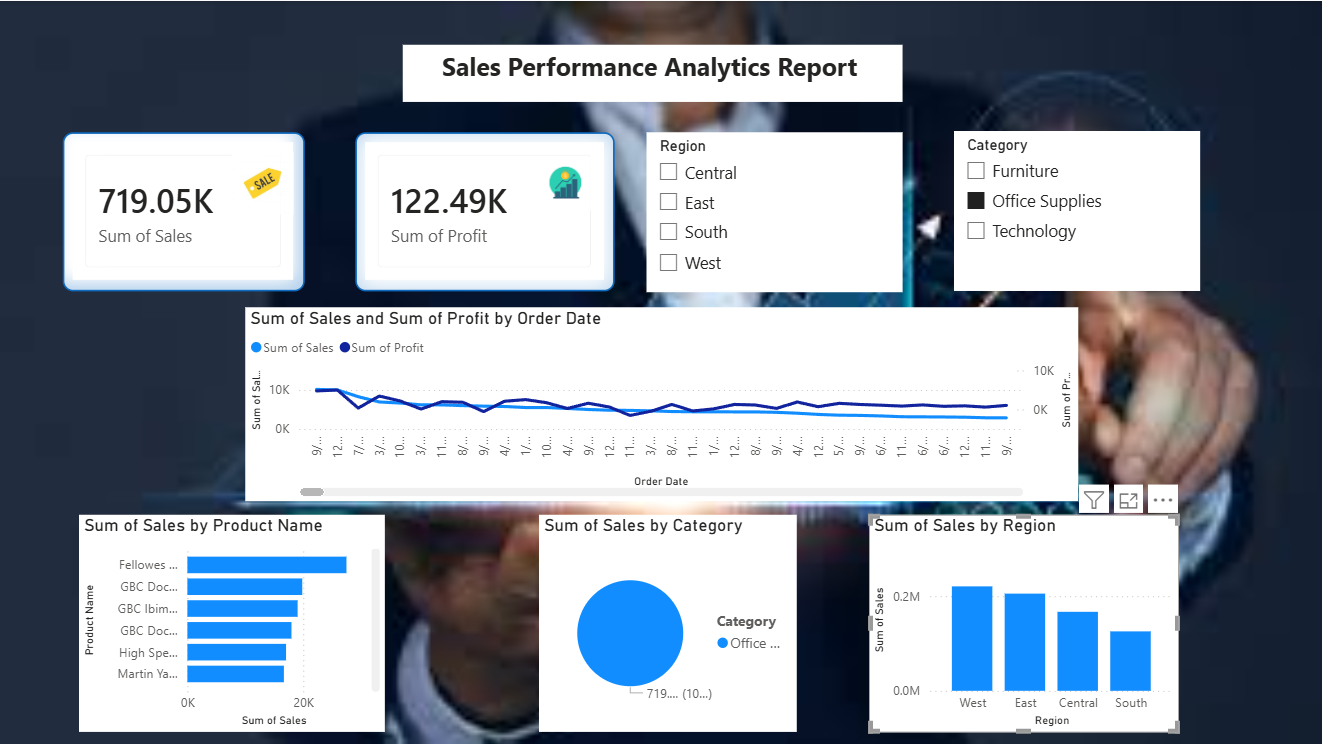

Layout of this report page (visuals, bound fields, positions):
{"tool":"powerbi","page":{"name":"Page 1","canvas":[1280,720],"ordinal":0},"visuals":[{"type":"cardVisual","fields":{"Data":["Sum(Sample - Superstore.Sales)"]},"box":[61.2,126.2,233.8,153.8],"z":0},{"type":"lineChart","fields":{"Category":["Sample - Superstore.Order Date"],"Y":["Sum(Sample - Superstore.Sales)"],"Y2":["Sum(Sample - Superstore.Profit)"]},"box":[237.5,295,803.8,187.5],"z":1000},{"type":"cardVisual","fields":{"Data":["Sum(Sample - Superstore.Profit)"]},"box":[343.8,126.2,250,153.8],"z":2000},{"type":"clusteredBarChart","fields":{"Category":["Sample - Superstore.Product Name"],"Y":["Sum(Sample - Superstore.Sales)"]},"box":[77.2,495.8,295.6,209.9],"z":3000},{"type":"pieChart","fields":{"Category":["Sample - Superstore.Category"],"Y":["Sum(Sample - Superstore.Sales)"]},"box":[521.2,495.8,248.5,209.9],"z":4000},{"type":"columnChart","fields":{"Category":["Sample - Superstore.Region"],"Y":["Sum(Sample - Superstore.Sales)"]},"box":[839.7,495.8,299.2,209.9],"z":5000},{"type":"textbox","box":[390,42.5,482.5,55],"z":6000},{"type":"slicer","fields":{"Values":["Sample - Superstore.Region"]},"box":[624.9,126.7,247.3,154.4],"z":7000},{"type":"slicer","fields":{"Values":["Sample - Superstore.Category"]},"box":[921.7,125.5,237.7,154.4],"z":8000},{"type":"image","box":[521.2,148.8,52.5,55],"z":9000},{"type":"image","box":[225,143.8,60,65],"z":10000}]}

Visuals, with their boxes in screenshot pixels (x1, y1, x2, y2), scaled from the page's 1280x720 canvas onto the 1322x744 screenshot:
cardVisual - Sum(Sample - Superstore.Sales): (left=63, top=130, right=305, bottom=289)
lineChart - Sample - Superstore.Order Date x Sum(Sample - Superstore.Sales): (left=245, top=305, right=1075, bottom=499)
cardVisual - Sum(Sample - Superstore.Profit): (left=355, top=130, right=613, bottom=289)
clusteredBarChart - Sample - Superstore.Product Name x Sum(Sample - Superstore.Sales): (left=80, top=512, right=385, bottom=729)
pieChart - Sample - Superstore.Category x Sum(Sample - Superstore.Sales): (left=538, top=512, right=795, bottom=729)
columnChart - Sample - Superstore.Region x Sum(Sample - Superstore.Sales): (left=867, top=512, right=1176, bottom=729)
textbox: (left=403, top=44, right=901, bottom=101)
slicer - Sample - Superstore.Region: (left=645, top=131, right=901, bottom=290)
slicer - Sample - Superstore.Category: (left=952, top=130, right=1197, bottom=289)
image: (left=538, top=154, right=593, bottom=211)
image: (left=232, top=149, right=294, bottom=216)
